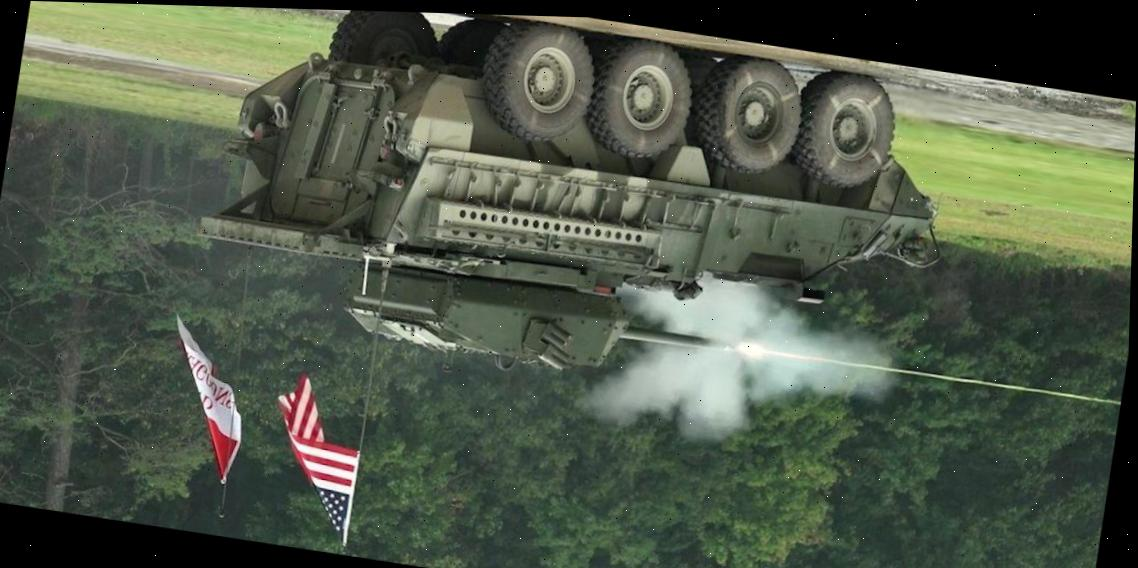tank: (179, 6, 967, 448)
